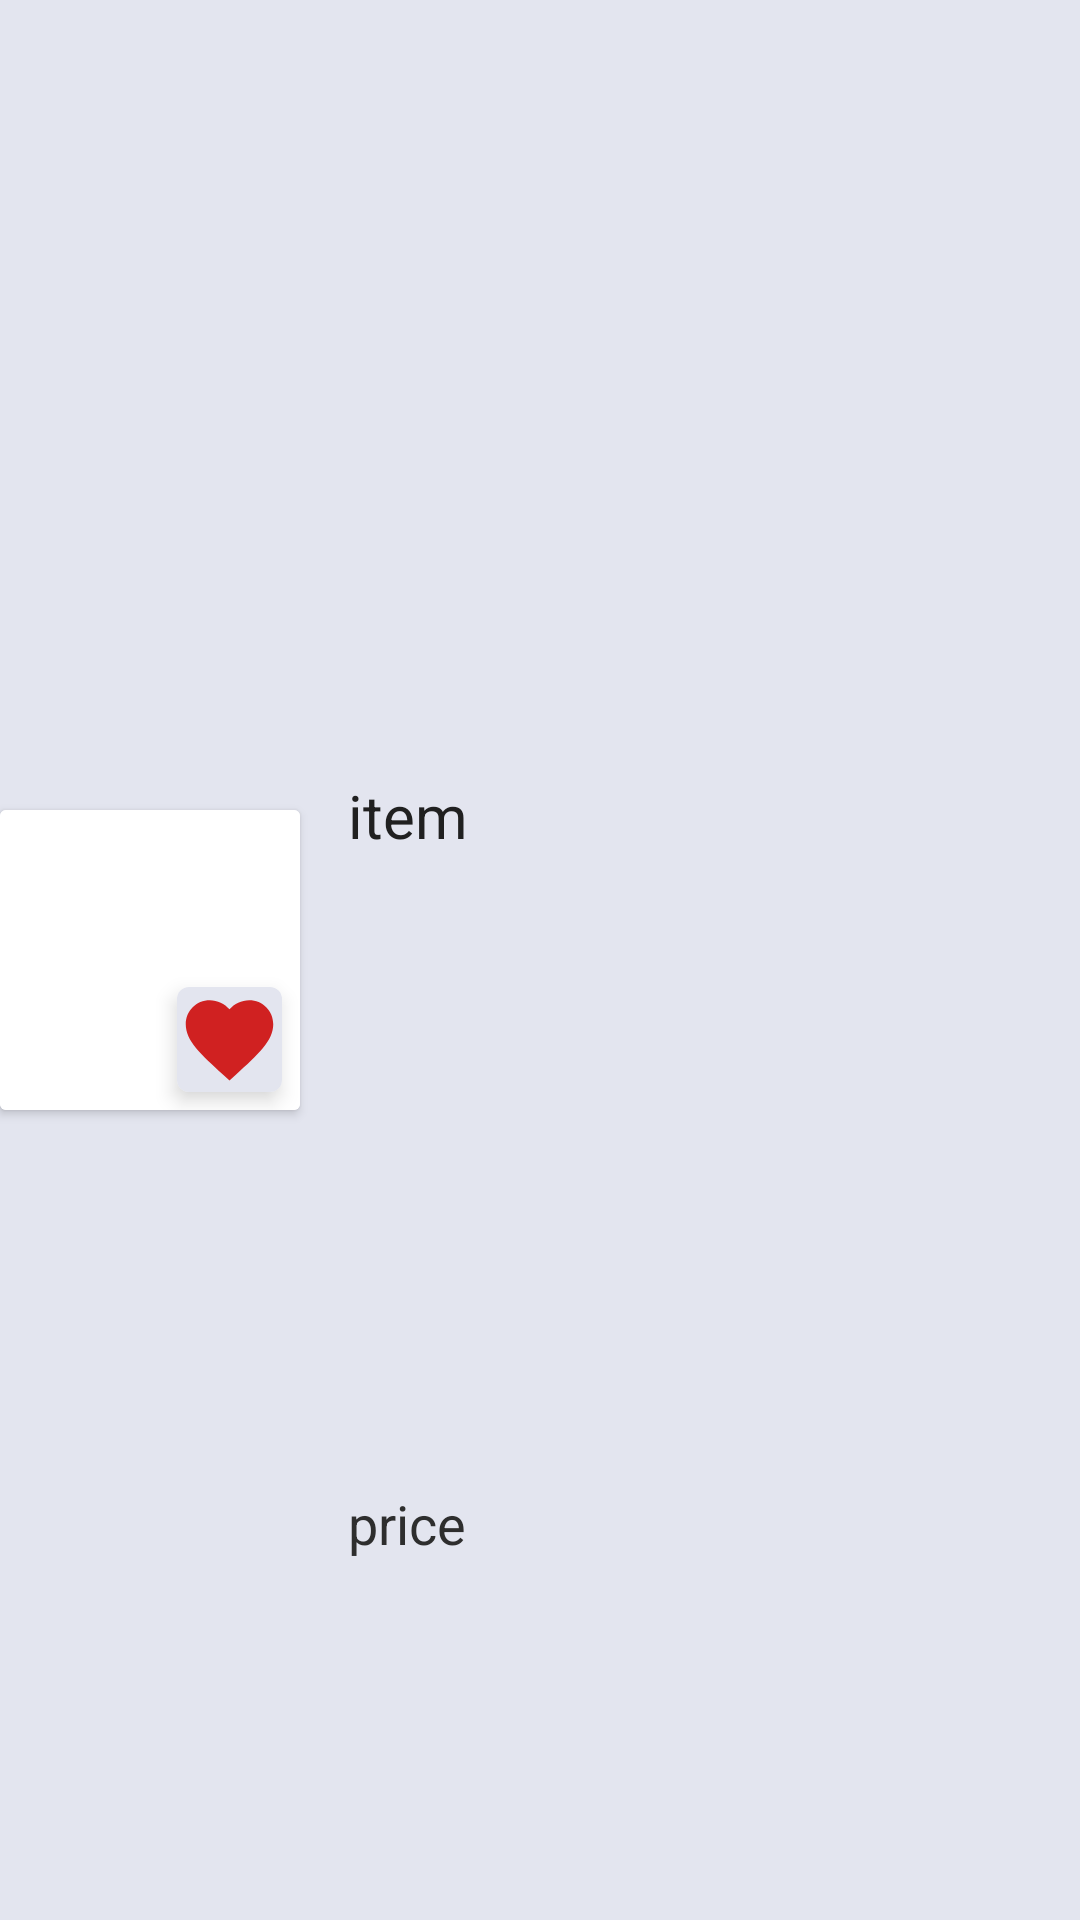

Icons on this 1080*1920 Android screen, each with the point to tap as (x,y):
favorite: (229,1039)
